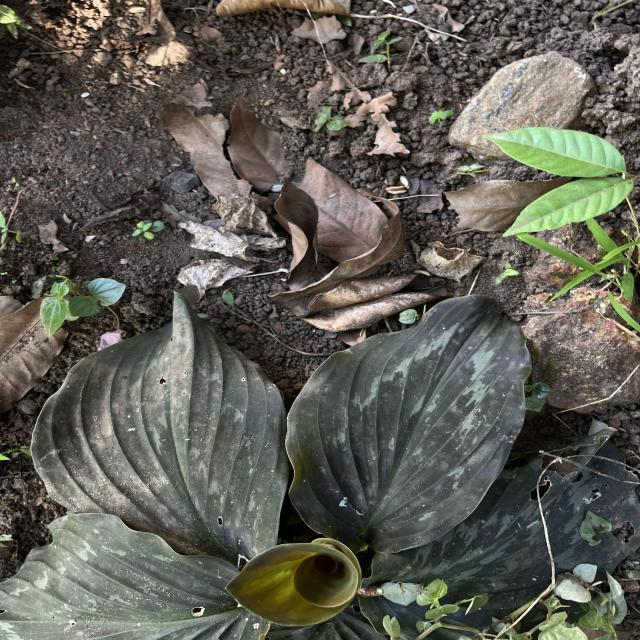Kaempferia galanga linn: (28, 282, 292, 563), (282, 292, 535, 556)
